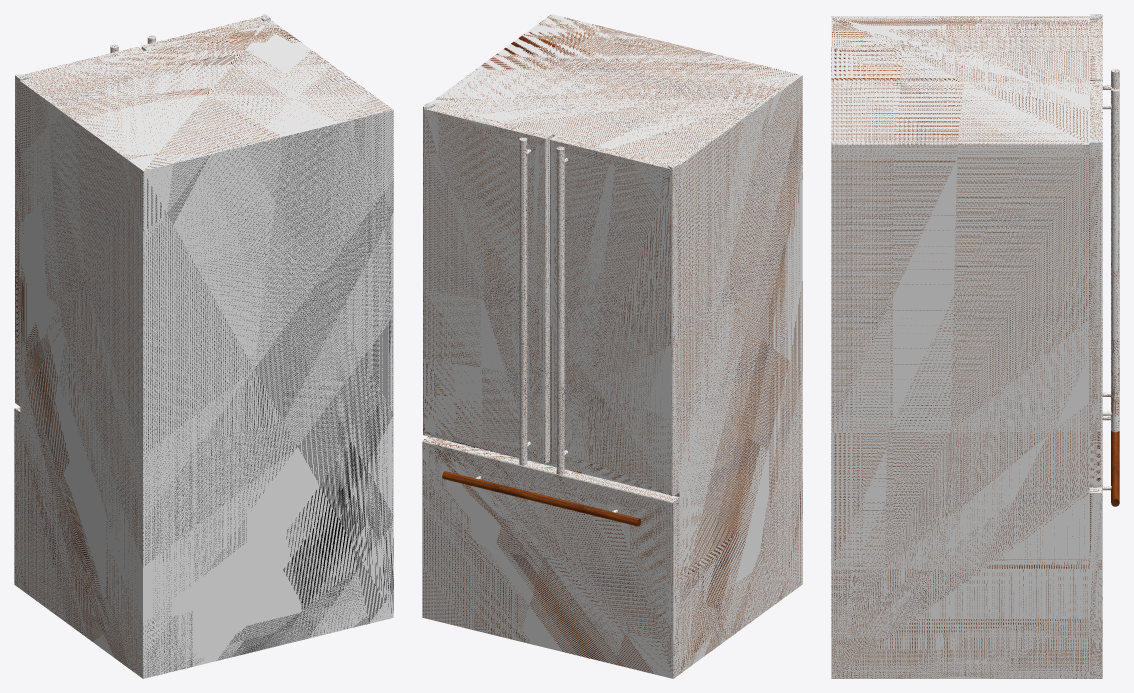
3 views of the same model, side by side, from view 1: azimuth 30°, elevation 25°; view 2: azimuth 150°, elevation 25°; view 3: azimuth 270°, elevation 25° (orthographic). The views are drawn at different scales.
Visible parts, largest first — view 1: mesh1_mesh1-geometry; view 2: mesh1_mesh1-geometry, mesh2_mesh2-geometry, mesh4_mesh4-geometry, mesh3_mesh3-geometry; view 3: mesh1_mesh1-geometry, mesh2_mesh2-geometry, mesh3_mesh3-geometry.
Boxes of the visible parts, box(x1,y1,x2,y2) form: mesh1_mesh1-geometry: box(14, 14, 393, 678); mesh1_mesh1-geometry: box(422, 14, 802, 678); mesh2_mesh2-geometry: box(519, 137, 527, 465); mesh4_mesh4-geometry: box(556, 146, 564, 474); mesh3_mesh3-geometry: box(442, 471, 641, 526); mesh1_mesh1-geometry: box(831, 14, 1112, 678); mesh2_mesh2-geometry: box(1111, 88, 1119, 432); mesh3_mesh3-geometry: box(1111, 431, 1119, 506).
Size of the model in its own units: 0.4198 by 0.8159 by 0.3976.
